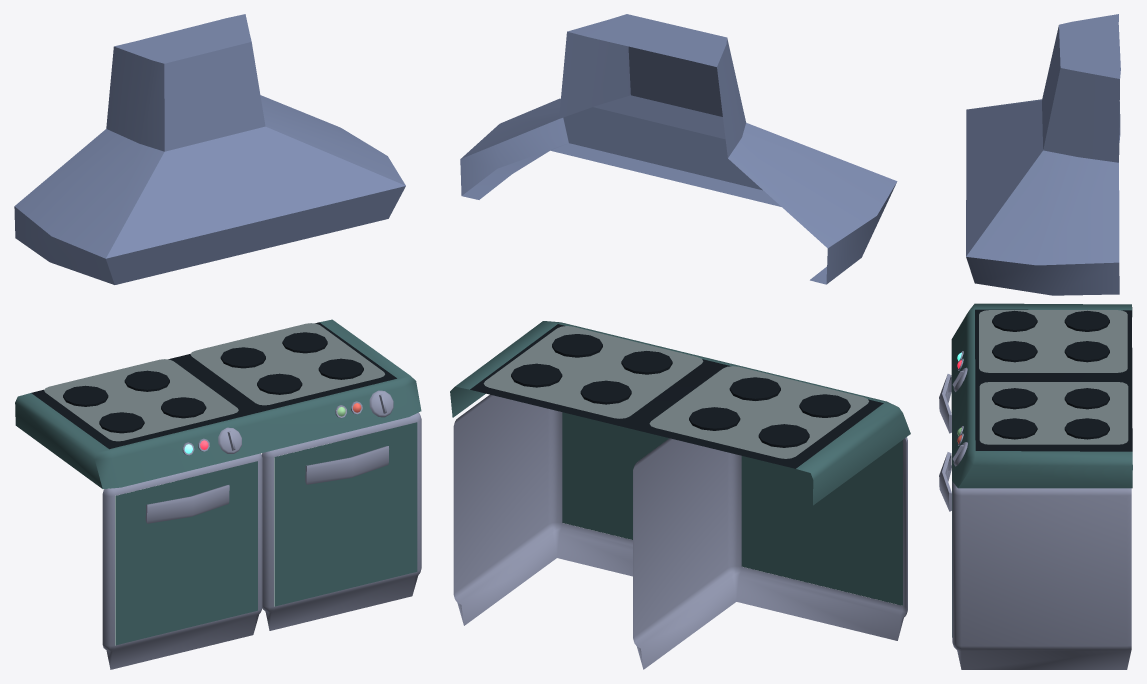
The model's file is Cocineta.glb.
3 views of the same model, side by side, from view 1: azimuth 30°, elevation 25°; view 2: azimuth 150°, elevation 25°; view 3: azimuth 270°, elevation 25° (orthographic). The views are drawn at different scales.
Visible parts, largest first — view 1: Cocineta; view 2: Cocineta; view 3: Cocineta.
Boxes of the visible parts, x1,y1,x2,y2 form: Cocineta: (14, 14, 421, 669); Cocineta: (450, 14, 910, 669); Cocineta: (939, 14, 1132, 669).
Bounding box in the file's own units: 4.17 × 6.49 × 2.08.
